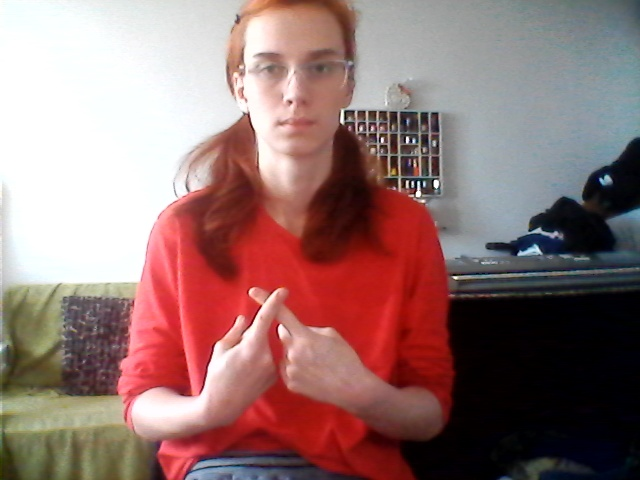x: (188, 279, 372, 444)
